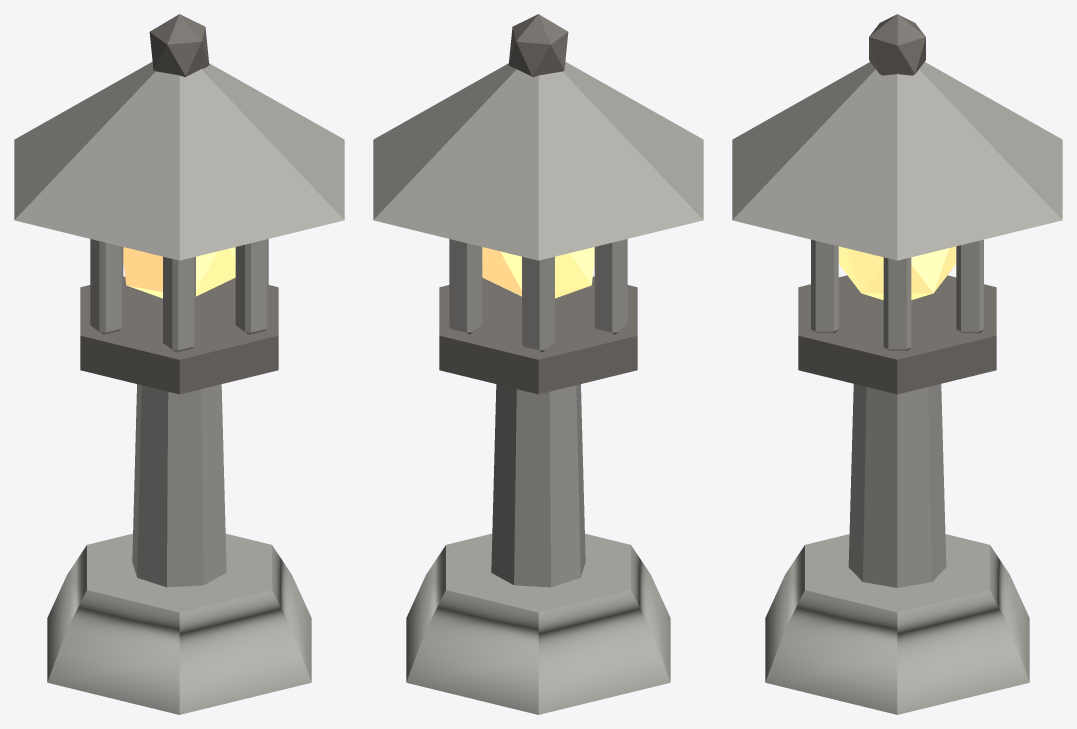
The model's file is StoneLantern.fbx.
3 renders of one model, left to right at view 1: azimuth 30°, elevation 25°; view 2: azimuth 150°, elevation 25°; view 3: azimuth 270°, elevation 25°, orthographic.
Visible parts, largest first — view 1: StoneLantern_StoneLight, StoneLantern_Stone, StoneLantern_Glow; view 2: StoneLantern_StoneLight, StoneLantern_Stone, StoneLantern_Glow; view 3: StoneLantern_StoneLight, StoneLantern_Stone, StoneLantern_Glow.
Part boxes in pixels (left/top/right/bottom): StoneLantern_StoneLight: left=14, top=61, right=344, bottom=714; StoneLantern_Stone: left=80, top=14, right=278, bottom=394; StoneLantern_Glow: left=123, top=247, right=235, bottom=298; StoneLantern_StoneLight: left=373, top=61, right=703, bottom=714; StoneLantern_Stone: left=439, top=14, right=637, bottom=394; StoneLantern_Glow: left=482, top=247, right=594, bottom=298; StoneLantern_StoneLight: left=732, top=62, right=1062, bottom=714; StoneLantern_Stone: left=798, top=14, right=996, bottom=394; StoneLantern_Glow: left=839, top=246, right=955, bottom=299.
Bounding box in the file's own units: 250 × 460 × 217.
